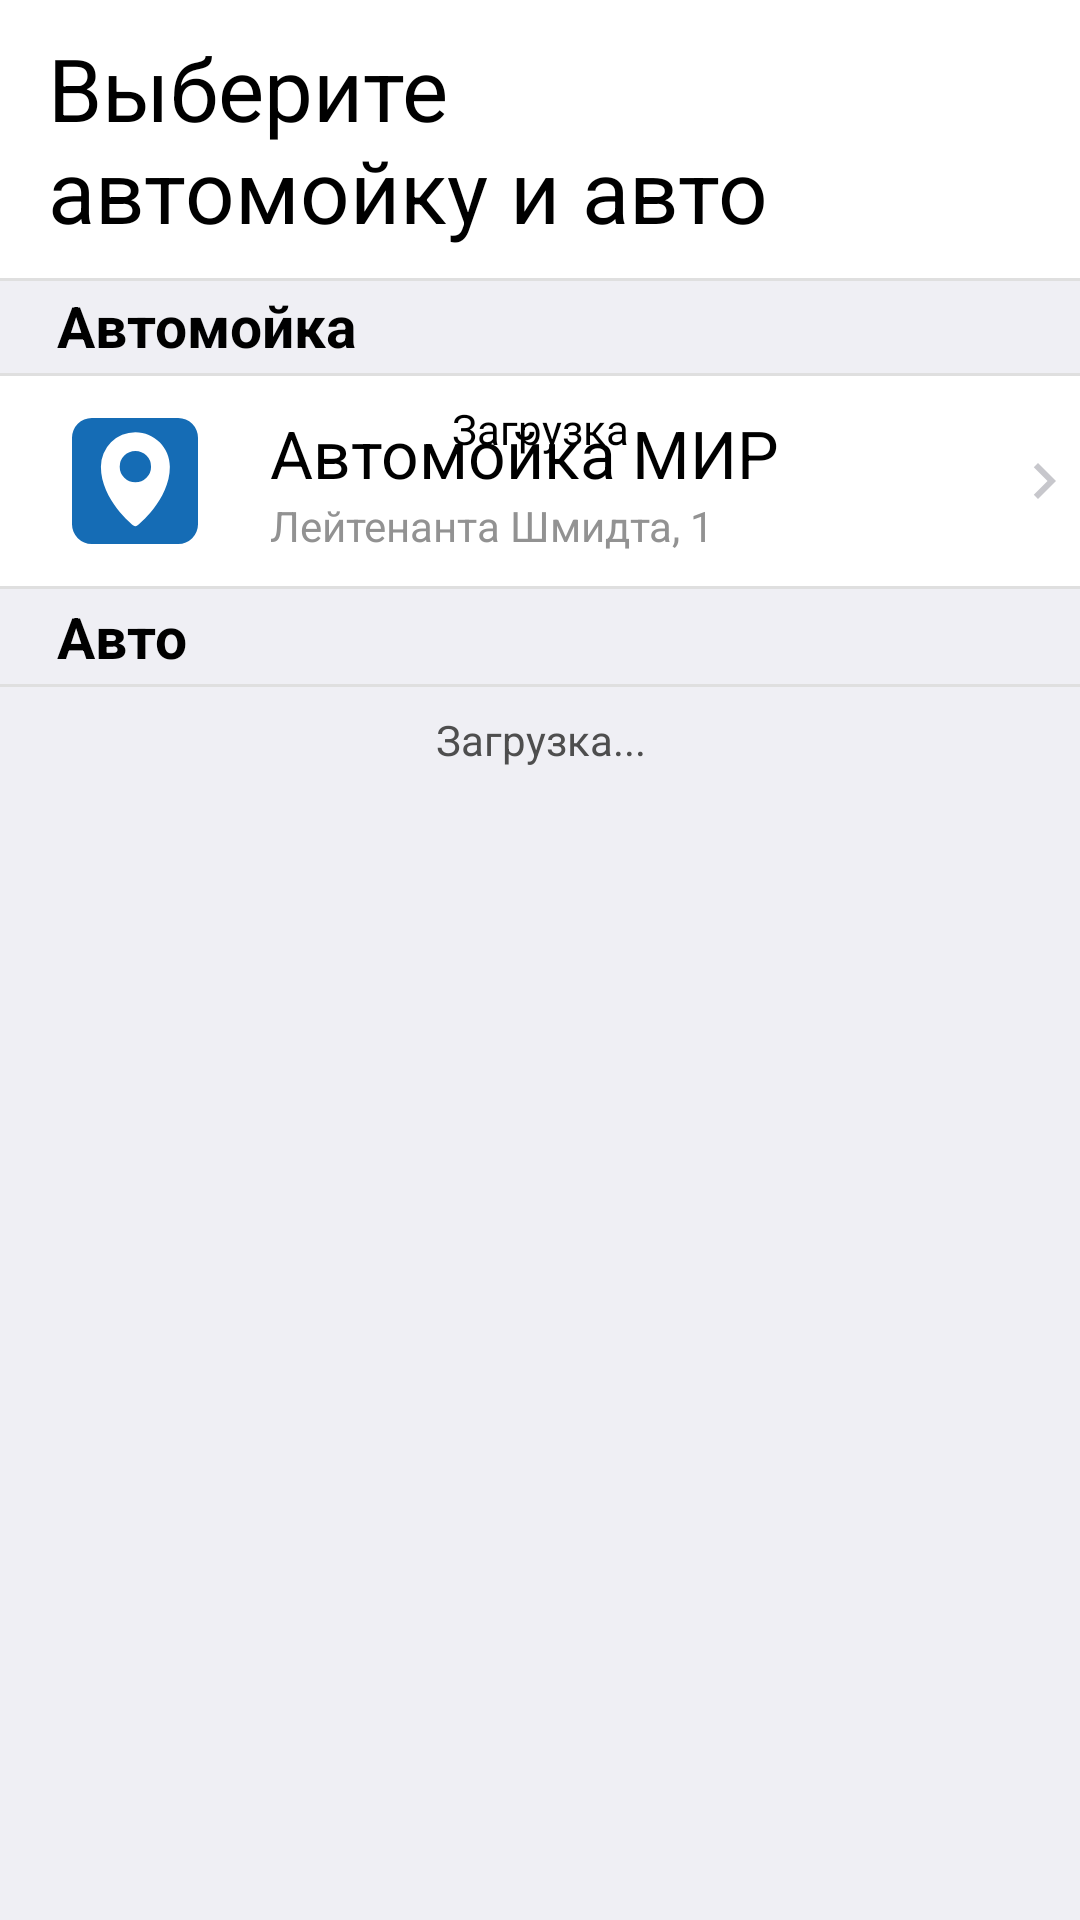

Screen size 1080px×1920px. Icon name, then its center in pixels as point (x, y):
map: point (135, 481)
next: point (1045, 481)
